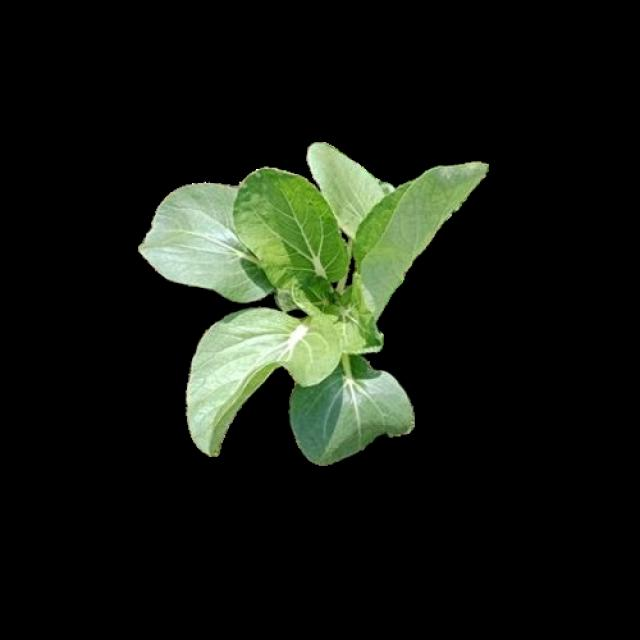healthy: (144, 156, 487, 460)
mature: (143, 145, 489, 462)
